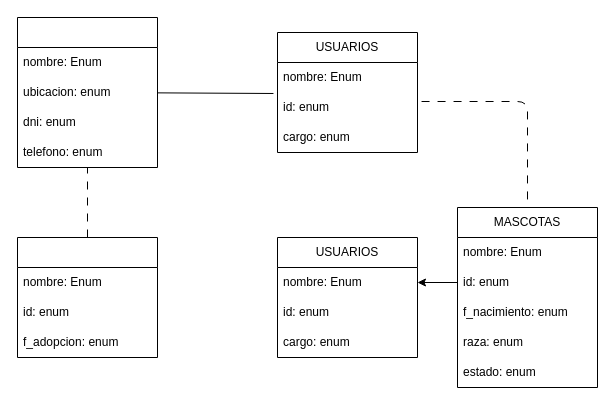
The diagram is 615 pixels wide and 405 high, and some of its shapes have lost their labels. Here are the shapes that lost their labels. From the top down, the box of each, then its label:
(16, 16, 158, 168): TIENDA
(16, 236, 158, 358): CLIENTES
